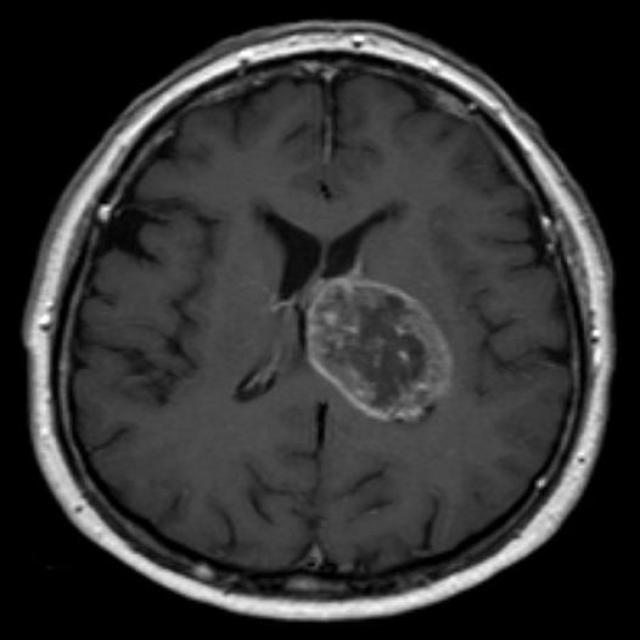Tumor-Cell: (301, 272, 453, 436)
